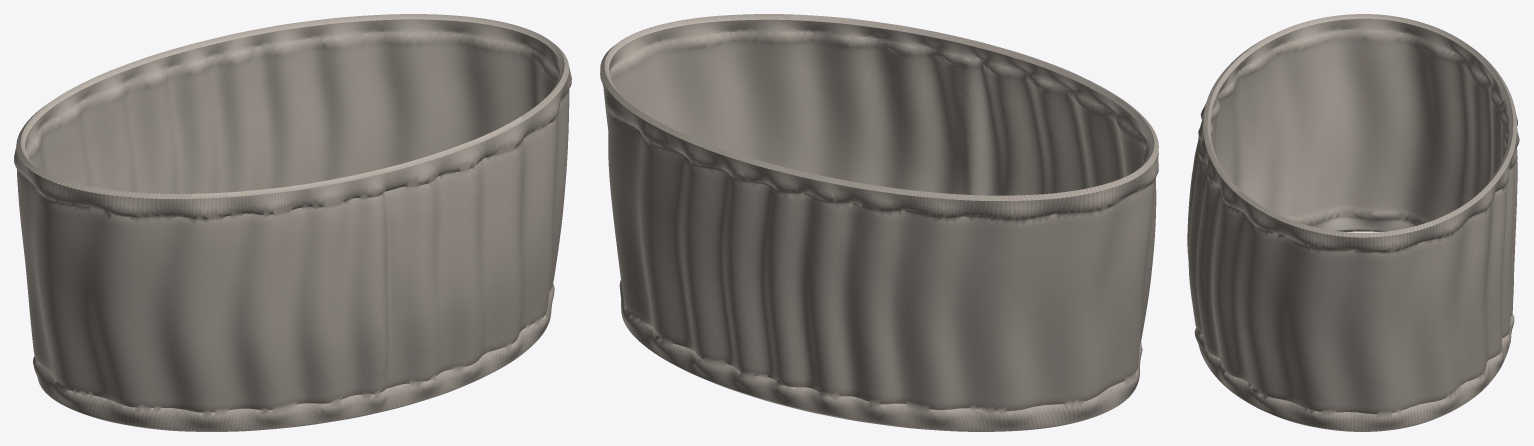
Rendered from 08_top_bandeau_pbr.glb.
The picture shows the model from 3 angles, left to right: view 1: azimuth 30°, elevation 25°; view 2: azimuth 150°, elevation 25°; view 3: azimuth 270°, elevation 25°; orthographic projection. The views are drawn at different scales.
Parts seen in each view (by area): view 1: Camiseta PBR; view 2: Camiseta PBR; view 3: Camiseta PBR.
Boxes of the visible parts, bbox=[...] form: Camiseta PBR: bbox=[14, 14, 571, 431]; Camiseta PBR: bbox=[600, 14, 1158, 431]; Camiseta PBR: bbox=[1187, 14, 1519, 431].
Bounding box in the file's own units: 0.3765 × 0.1649 × 0.2382.
Materials: 1 (1 with a texture image).
